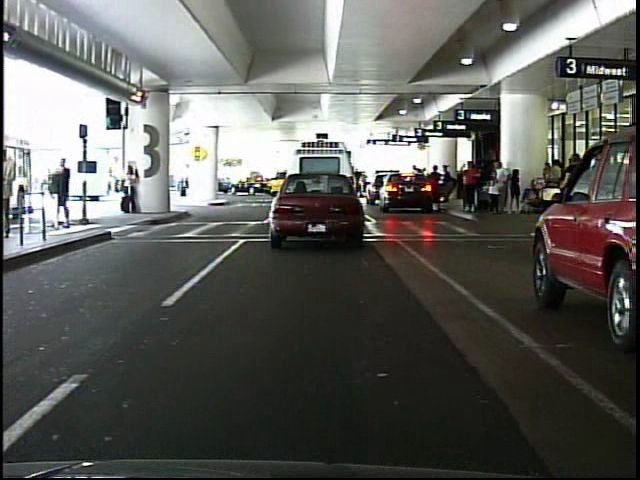person: (4, 149, 27, 244), (53, 153, 77, 233), (120, 161, 141, 216), (170, 159, 196, 202), (462, 161, 480, 215)
